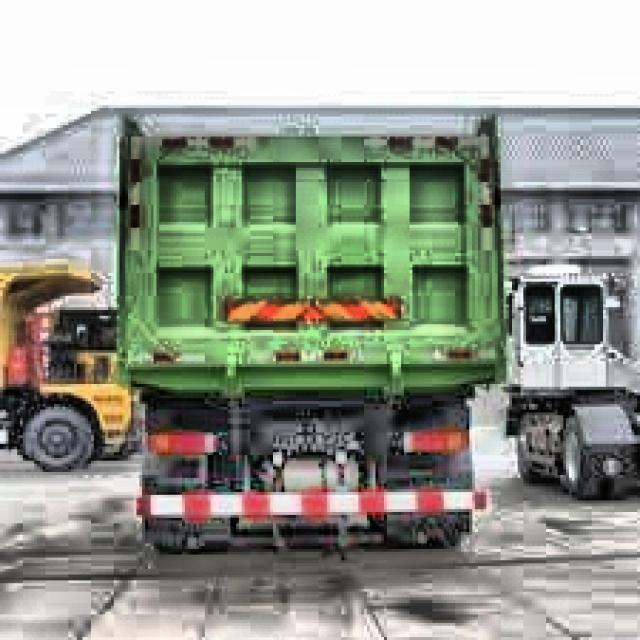dump_truck: (101, 109, 509, 561)
